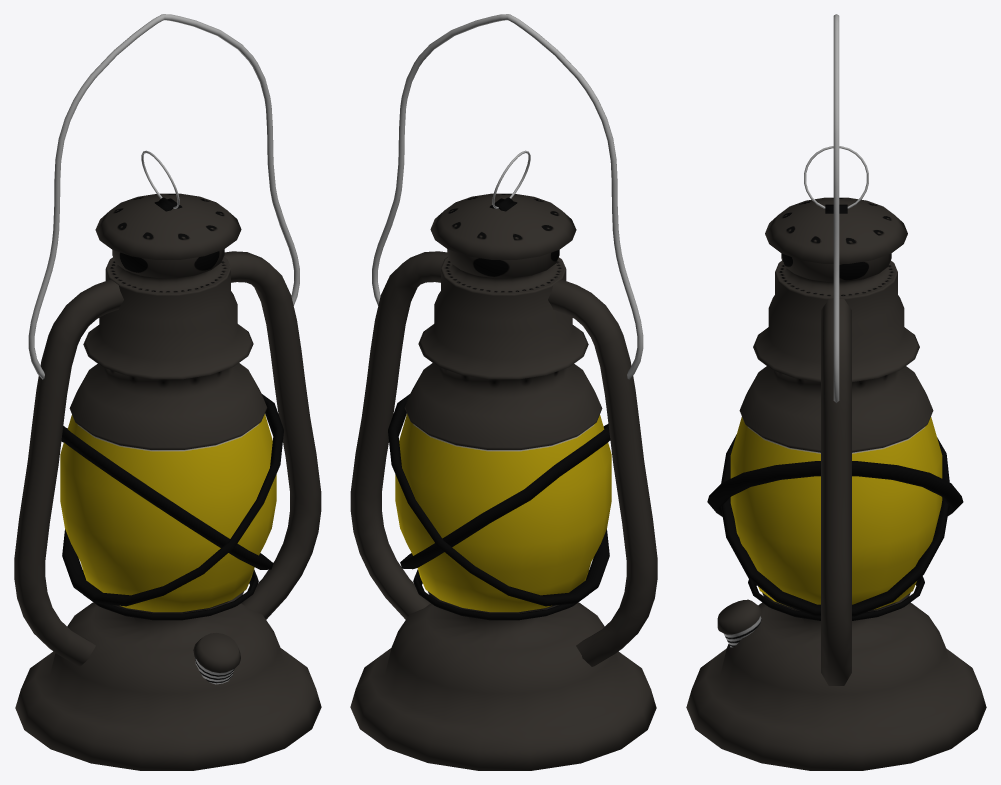
File: hand_lamp.obj
3 views of the same model, side by side, from view 1: azimuth 30°, elevation 25°; view 2: azimuth 150°, elevation 25°; view 3: azimuth 270°, elevation 25° (orthographic).
Visible parts, largest first — view 1: LampJoined_Low; view 2: LampJoined_Low; view 3: LampJoined_Low.
Part boxes in pixels (<box>): LampJoined_Low: <box>14,14,321,770</box>; LampJoined_Low: <box>350,14,657,770</box>; LampJoined_Low: <box>686,14,986,770</box>.
Bounding box in the file's own units: 0.4063 × 0.9021 × 0.3563.
